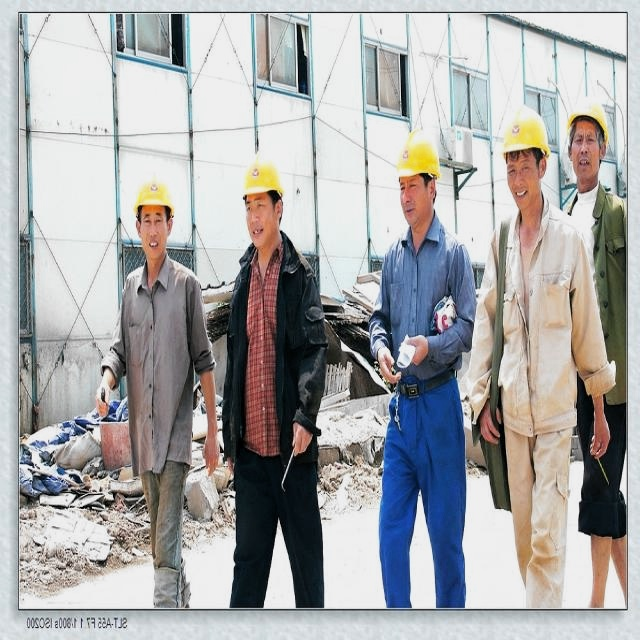Con_Casco: (396, 128, 440, 227), (241, 150, 285, 246)
